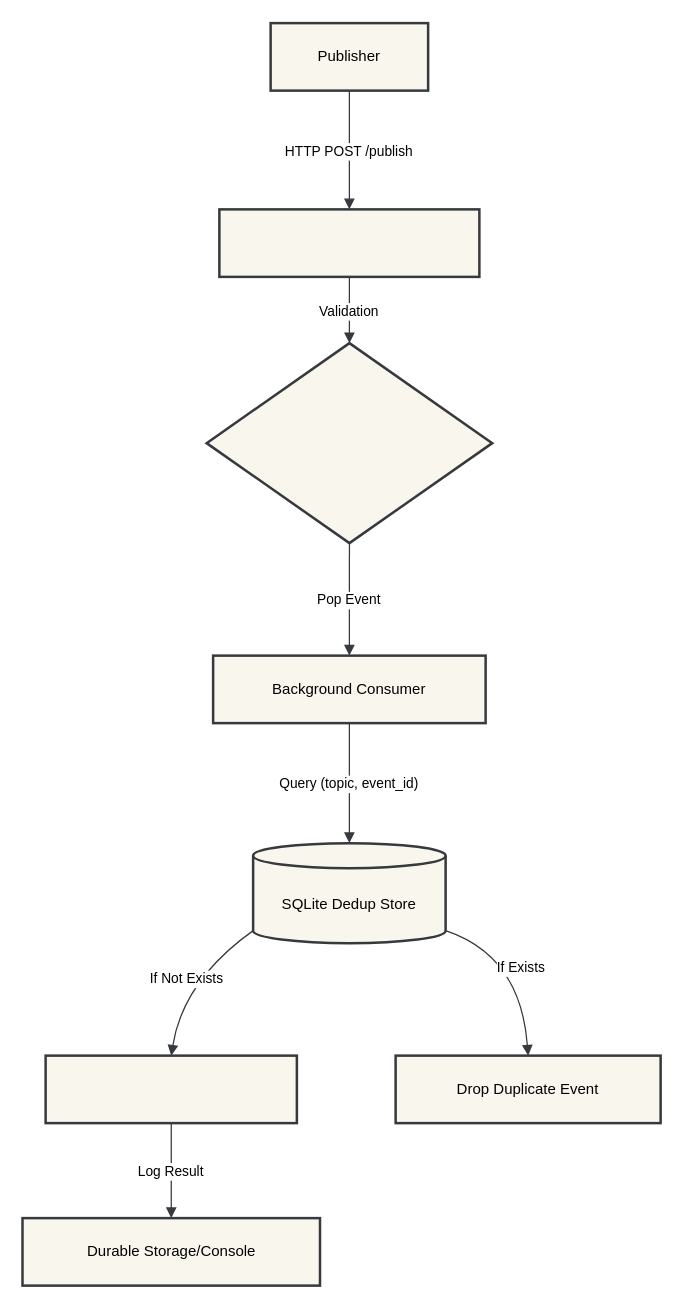
This 684x1308 diagram has some shape labels left out. The centre of each missing label's shape, as x and y in pixels:
"API Endpoint FastAPI" goes at point (349, 243).
"Internal In-memory Queue" goes at point (349, 442).
"Process & Store Log" goes at point (171, 1089).
